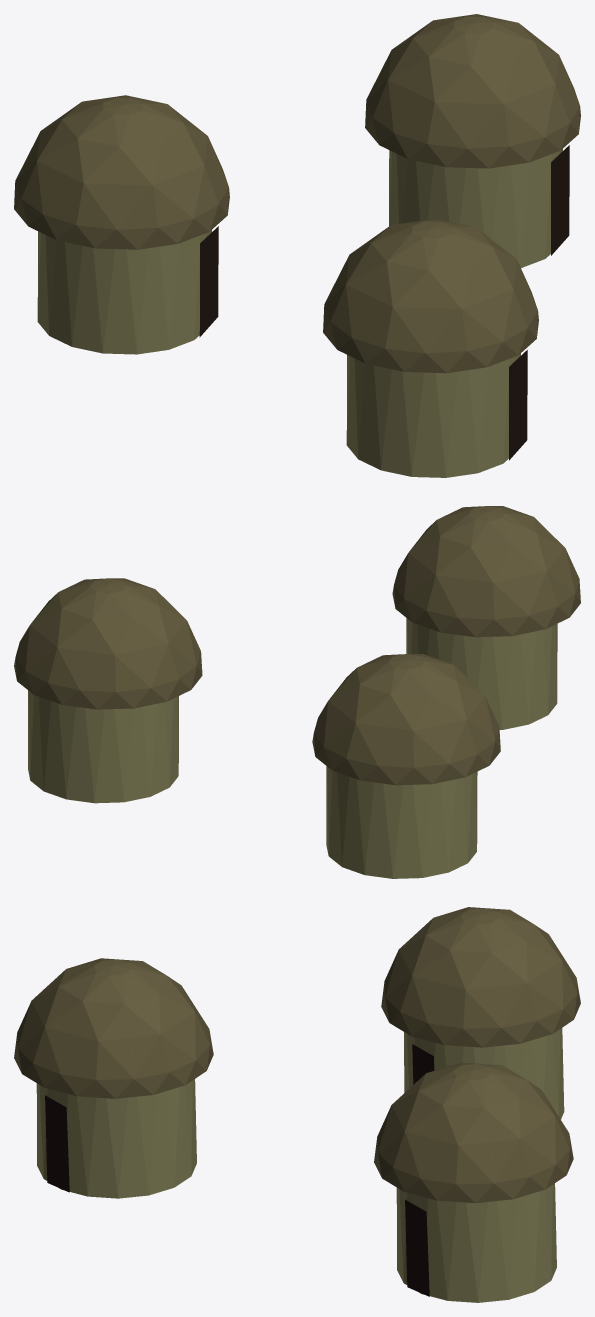
File: Hut.glb
3 renders of one model, top to bottom at view 1: azimuth 30°, elevation 25°; view 2: azimuth 150°, elevation 25°; view 3: azimuth 270°, elevation 25°, orthographic. The views are drawn at different scales.
Parts seen in each view (by area): view 1: Sphere.002, Sphere.001, Sphere, Cylinder.001, Cylinder, Cylinder.002, Plane.001, Plane, Plane.002; view 2: Sphere.001, Sphere.002, Sphere, Cylinder.001, Cylinder.002, Cylinder; view 3: Sphere, Sphere.001, Sphere.002, Cylinder.002, Cylinder, Cylinder.001, Plane, Plane.002, Plane.001.
Part boxes in pixels (x1,y1,x2,y2): Sphere.002: (365, 14, 580, 168); Sphere.001: (14, 95, 229, 249); Sphere: (323, 218, 538, 373); Cylinder.001: (37, 230, 211, 354); Cylinder: (346, 353, 520, 477); Cylinder.002: (389, 149, 562, 267); Plane.001: (199, 226, 218, 337); Plane: (509, 350, 527, 460); Plane.002: (551, 145, 569, 255); Sphere.001: (312, 654, 500, 785); Sphere.002: (14, 578, 202, 709); Sphere: (392, 506, 580, 637); Cylinder.001: (326, 766, 477, 878); Cylinder.002: (28, 690, 178, 803); Cylinder: (406, 618, 557, 729); Sphere: (14, 958, 213, 1098); Sphere.001: (381, 907, 580, 1047); Sphere.002: (374, 1062, 573, 1203); Cylinder.002: (396, 1157, 556, 1302); Cylinder: (36, 1052, 196, 1198); Cylinder.001: (404, 1001, 564, 1119); Plane: (45, 1095, 69, 1192); Plane.002: (405, 1199, 429, 1296); Plane.001: (412, 1044, 434, 1084).
Size of the model in its own units: 1.86 by 0.7289 by 1.86.
